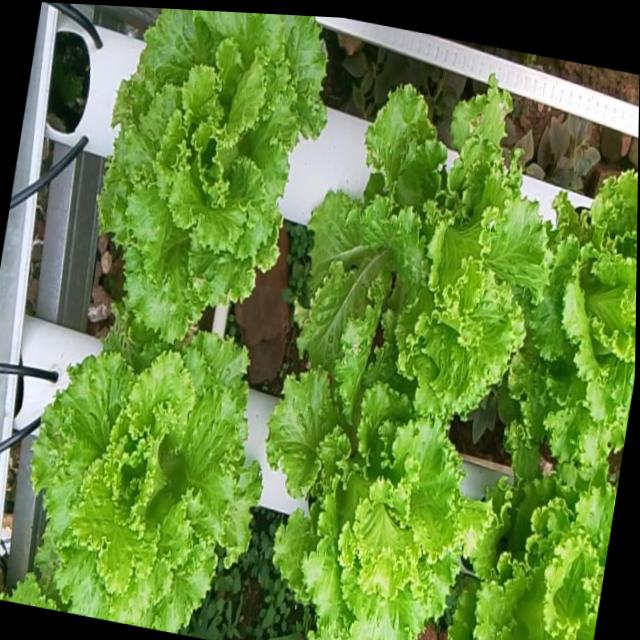Mature: (305, 75, 558, 417), (9, 323, 271, 634), (107, 9, 335, 338), (275, 348, 489, 640), (519, 159, 638, 451), (458, 455, 620, 640)
